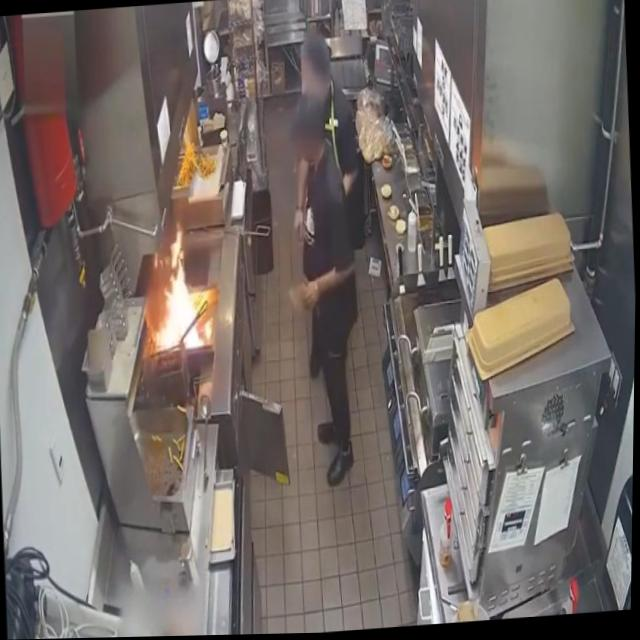fire: (143, 222, 211, 359)
